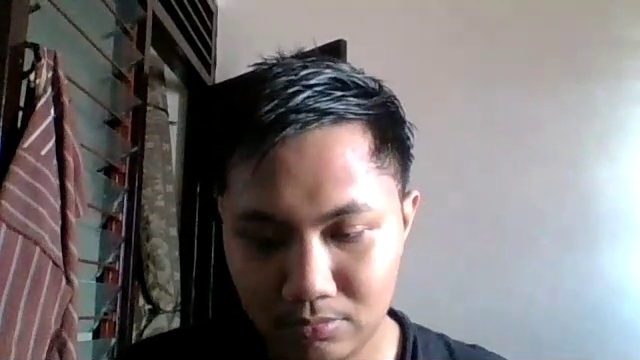Distracted: (215, 123, 421, 357)
